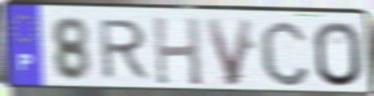8: (49, 14, 93, 85)
C: (257, 18, 313, 89)
H: (151, 14, 205, 88)
O: (311, 19, 365, 89)
R: (97, 18, 153, 83)
V: (202, 16, 256, 88)
